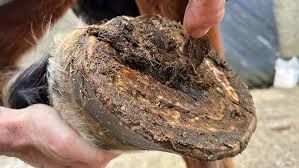horsesole: (77, 17, 257, 159)
